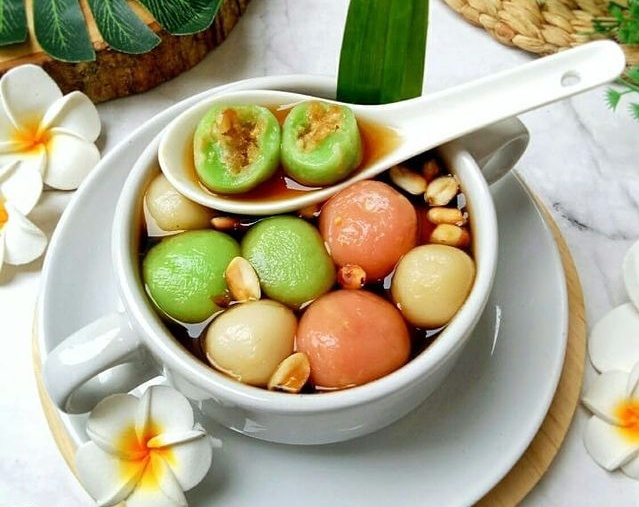ronde: (143, 108, 478, 392)
